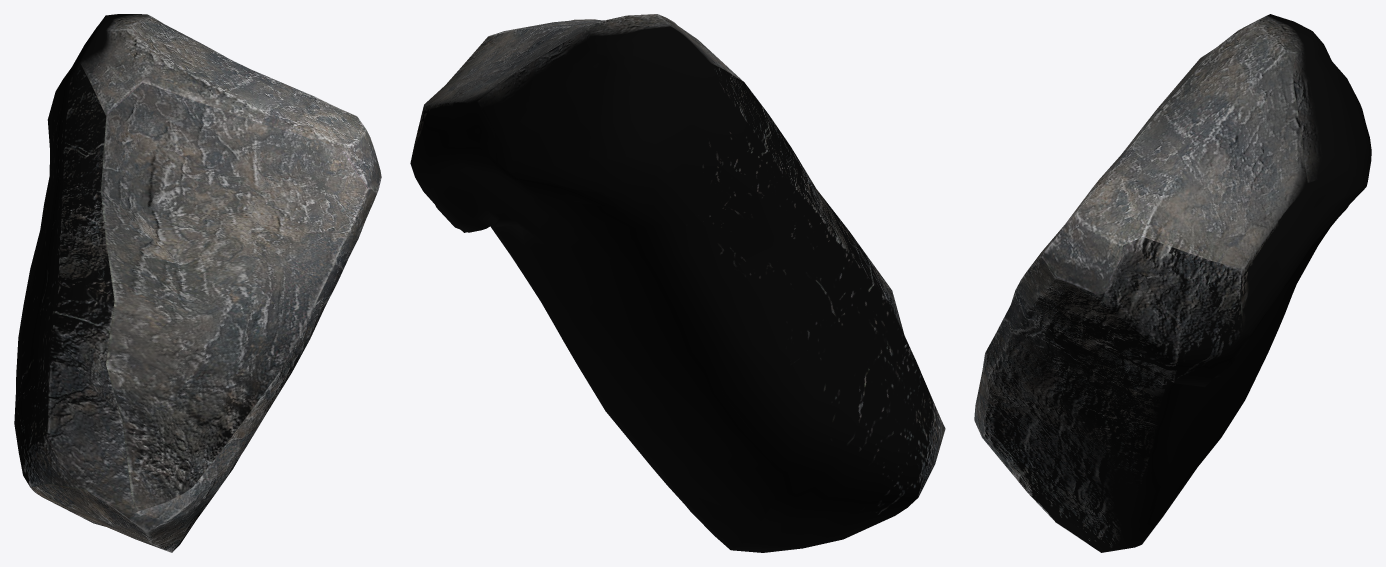
File: rock.glb
3 renders of one model, left to right at view 1: azimuth 30°, elevation 25°; view 2: azimuth 150°, elevation 25°; view 3: azimuth 270°, elevation 25°, orthographic. The views are drawn at different scales.
Parts seen in each view (by area): view 1: RetopoFlow.001_Normal_Map_0; view 2: RetopoFlow.001_Normal_Map_0; view 3: RetopoFlow.001_Normal_Map_0.
Part boxes in pixels (x1,y1,x2,y2): RetopoFlow.001_Normal_Map_0: (14,14,381,552); RetopoFlow.001_Normal_Map_0: (410,14,945,552); RetopoFlow.001_Normal_Map_0: (974,14,1371,552).
Bounding box in the file's own units: 1.56 × 1.93 × 1.3.
1 material, 1 textured.
